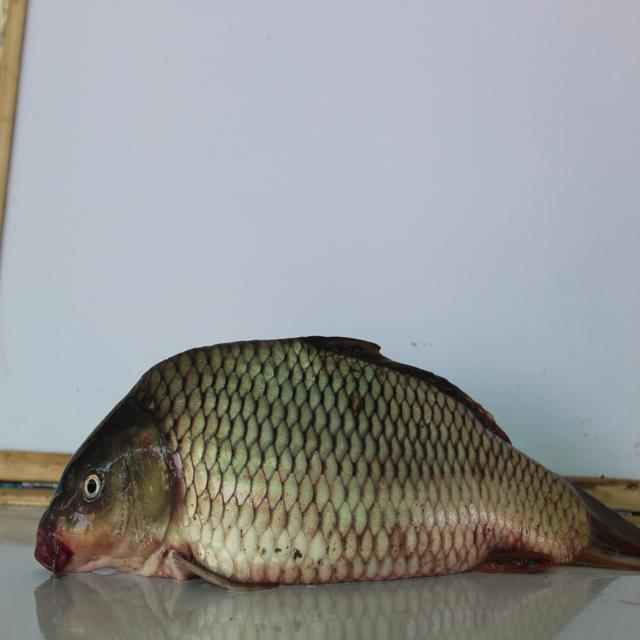CommonCarp: (30, 326, 640, 612)
